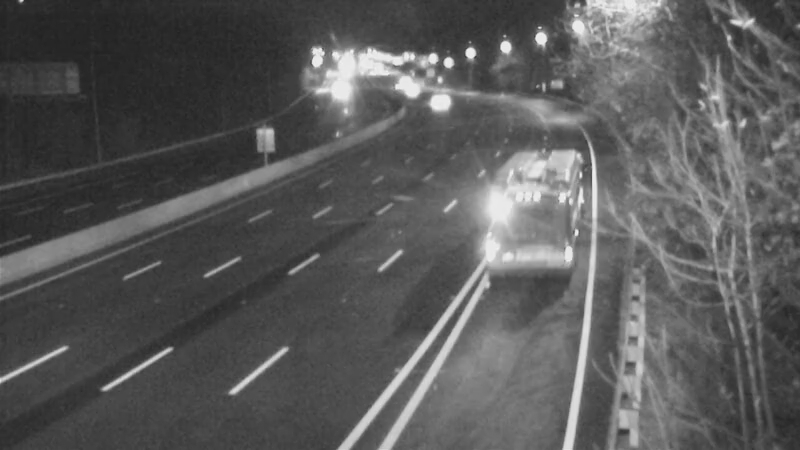vehicle: (471, 188, 551, 268), (413, 76, 463, 126)
